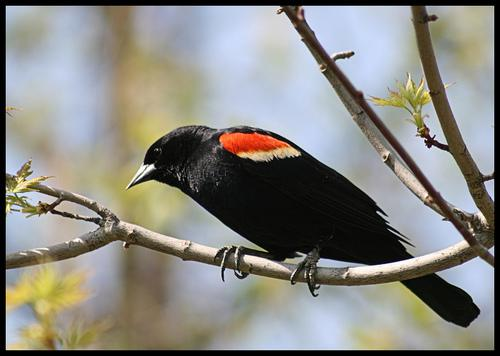010.Red_winged_Blackbird: (125, 122, 483, 329)
